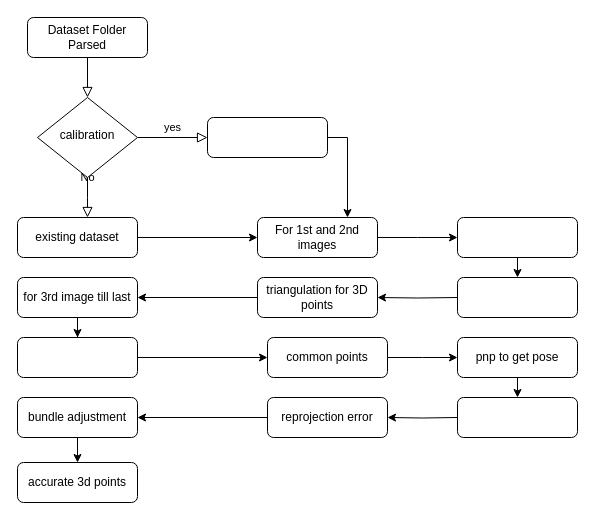
Image size: 595x520. Some labels were removed from this diagram. The shapes that lost their labels are listed below. From the top down, each one's centre as x and y in pixels, then its label:
At point 267,137: "extract intrinsic parameters".
At point 517,237: "feature detection/matching".
At point 517,297: "essential matrix and pose".
At point 77,357: "find features and matches".
At point 517,417: "triangulation".
